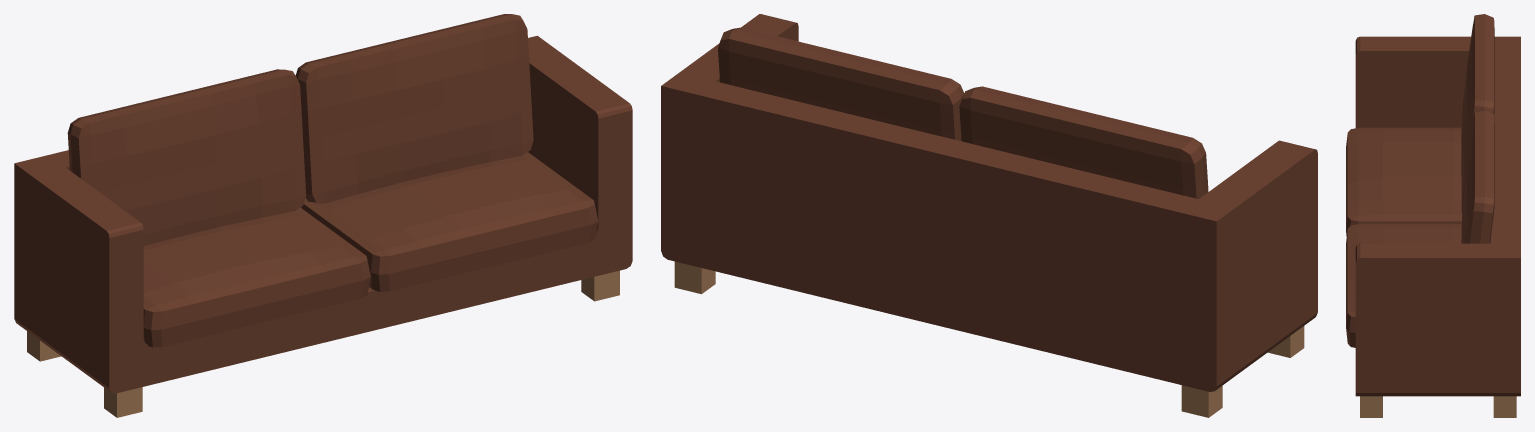
The model's file is Int_Sofa02_2.fbx.
3 views of the same model, side by side, from view 1: azimuth 30°, elevation 25°; view 2: azimuth 150°, elevation 25°; view 3: azimuth 270°, elevation 25° (orthographic). The views are drawn at different scales.
Parts seen in each view (by area): view 1: Int_Sofa02_2; view 2: Int_Sofa02_2; view 3: Int_Sofa02_2.
Part boxes in pixels (box(x1,y1,x2,y2)): Int_Sofa02_2: box(14, 14, 632, 417); Int_Sofa02_2: box(661, 14, 1317, 417); Int_Sofa02_2: box(1346, 14, 1520, 417).
Size of what is drawn, in the model's own units: 300 by 100 by 130.
